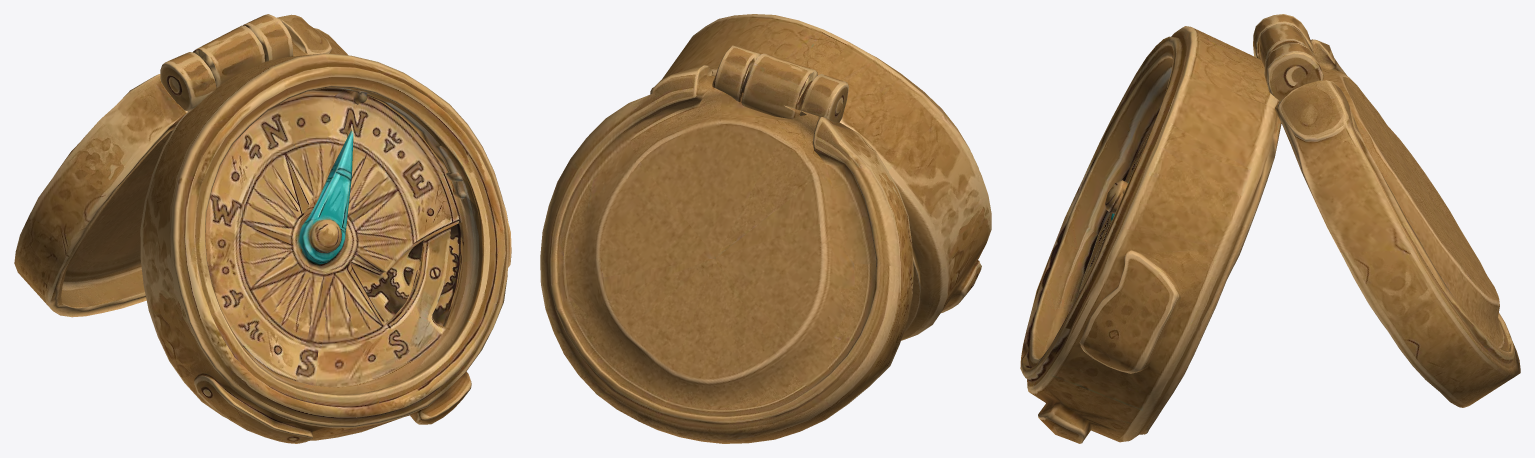
The model's file is compass.glb.
The picture shows the model from 3 angles, left to right: view 1: azimuth 30°, elevation 25°; view 2: azimuth 150°, elevation 25°; view 3: azimuth 270°, elevation 25°; orthographic projection. The views are drawn at different scales.
Bounding box in the file's own units: 1.08 × 1 × 1.19.
Materials: 1 (1 with a texture image).
